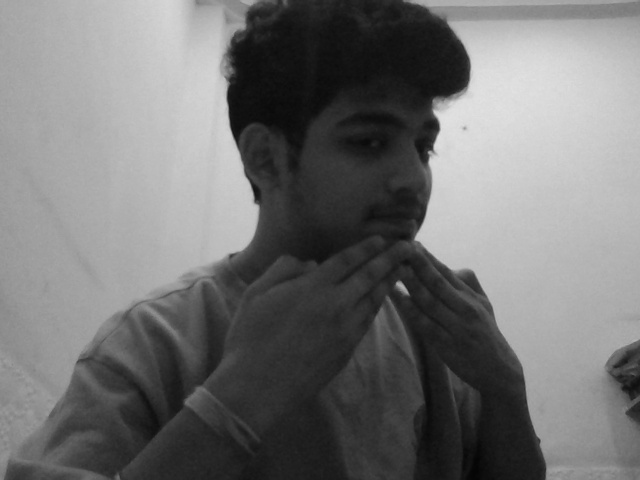Thanks: (191, 191, 542, 404)
